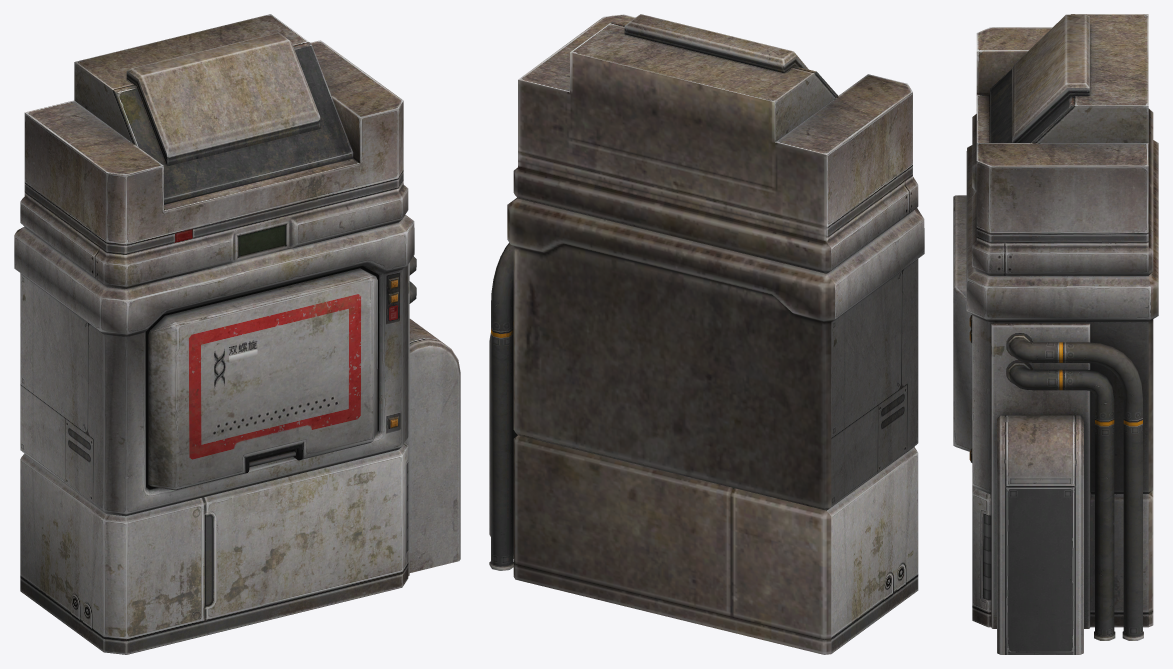
Rendered from lab_unit_large.dae.
3 views of the same model, side by side, from view 1: azimuth 30°, elevation 25°; view 2: azimuth 150°, elevation 25°; view 3: azimuth 270°, elevation 25° (orthographic). The views are drawn at different scales.
Parts seen in each view (by area): view 1: low; view 2: low; view 3: low.
Part boxes in pixels (box(x1,y1,x2,y2)): low: box(14, 14, 460, 654); low: box(489, 14, 924, 654); low: box(953, 14, 1158, 654).
Size of the model in its own units: 2.12 by 2.9 by 1.06.
